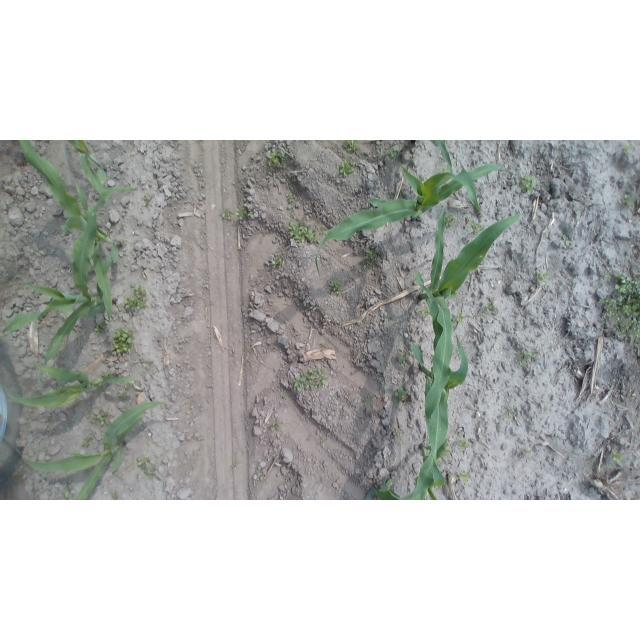Maize: (406, 205, 526, 423), (1, 183, 136, 364), (315, 154, 512, 278), (16, 140, 122, 324), (10, 399, 171, 500), (404, 312, 472, 469), (367, 396, 455, 500), (7, 359, 142, 409), (65, 140, 121, 209), (413, 416, 456, 500), (424, 140, 456, 169)
Weeds: (597, 270, 640, 343), (292, 363, 330, 393), (287, 219, 321, 245), (124, 283, 148, 317), (112, 327, 136, 358), (137, 455, 160, 481), (518, 173, 539, 196), (519, 346, 541, 367), (266, 147, 287, 168), (391, 387, 409, 410), (235, 202, 255, 222), (339, 158, 357, 179), (456, 437, 475, 455), (535, 269, 554, 287), (610, 448, 628, 467), (327, 277, 345, 295), (619, 191, 637, 208), (61, 480, 76, 500), (364, 247, 380, 264), (442, 212, 458, 229), (267, 418, 284, 434), (452, 310, 469, 326), (92, 411, 110, 426), (343, 140, 362, 154), (457, 471, 473, 486), (470, 219, 483, 237), (269, 254, 285, 268), (380, 478, 396, 492), (219, 207, 234, 221), (96, 319, 107, 338), (387, 146, 400, 162), (483, 298, 496, 314), (191, 161, 206, 174), (503, 408, 518, 421), (81, 434, 94, 448), (419, 305, 432, 319), (255, 470, 266, 486), (622, 143, 635, 156), (521, 447, 535, 459), (399, 348, 410, 363), (360, 393, 373, 405), (560, 232, 571, 246), (395, 427, 406, 440), (143, 192, 153, 206), (141, 361, 154, 371), (319, 226, 329, 239), (117, 221, 128, 232), (231, 460, 241, 472), (318, 432, 327, 445), (119, 390, 130, 400), (288, 192, 297, 204), (288, 206, 297, 217), (630, 388, 637, 401), (110, 490, 119, 500), (101, 371, 112, 379), (542, 406, 553, 414), (124, 382, 133, 391), (570, 281, 578, 290), (632, 491, 640, 500), (278, 204, 286, 212), (442, 167, 451, 173)
